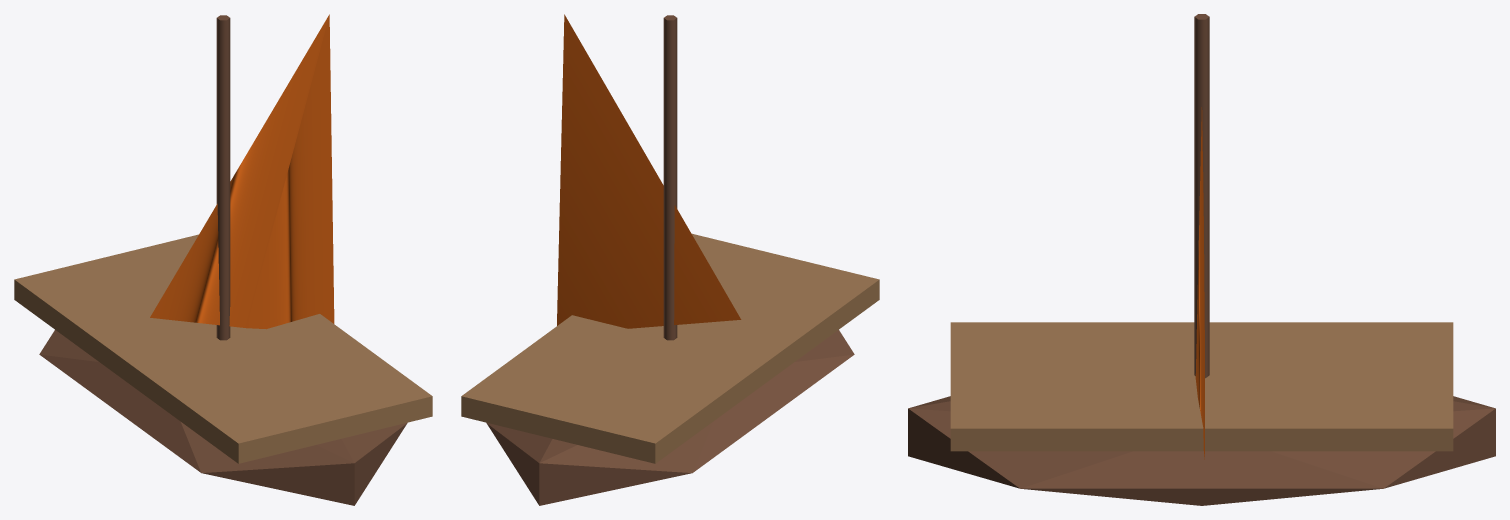
File: boat.glb
3 renders of one model, left to right at view 1: azimuth 30°, elevation 25°; view 2: azimuth 150°, elevation 25°; view 3: azimuth 270°, elevation 25°, orthographic. The views are drawn at different scales.
Bounding box in the file's own units: 2.22 × 3.99 × 4.68.
